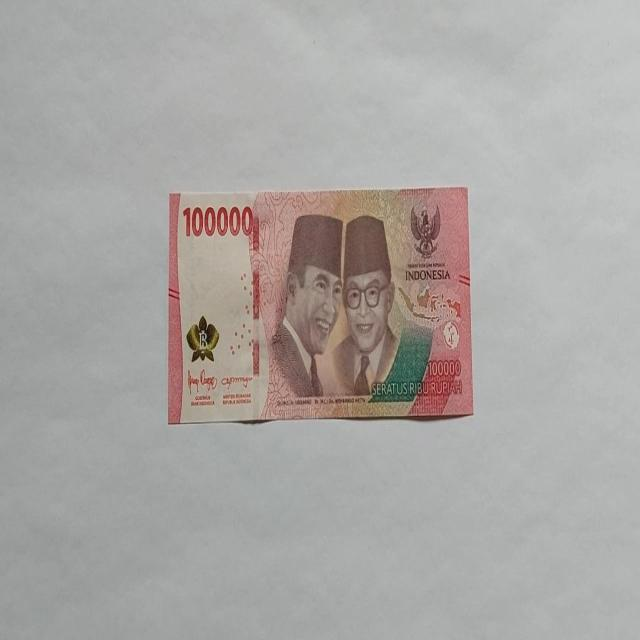Kertas: (168, 185, 474, 425), (181, 203, 255, 239)
